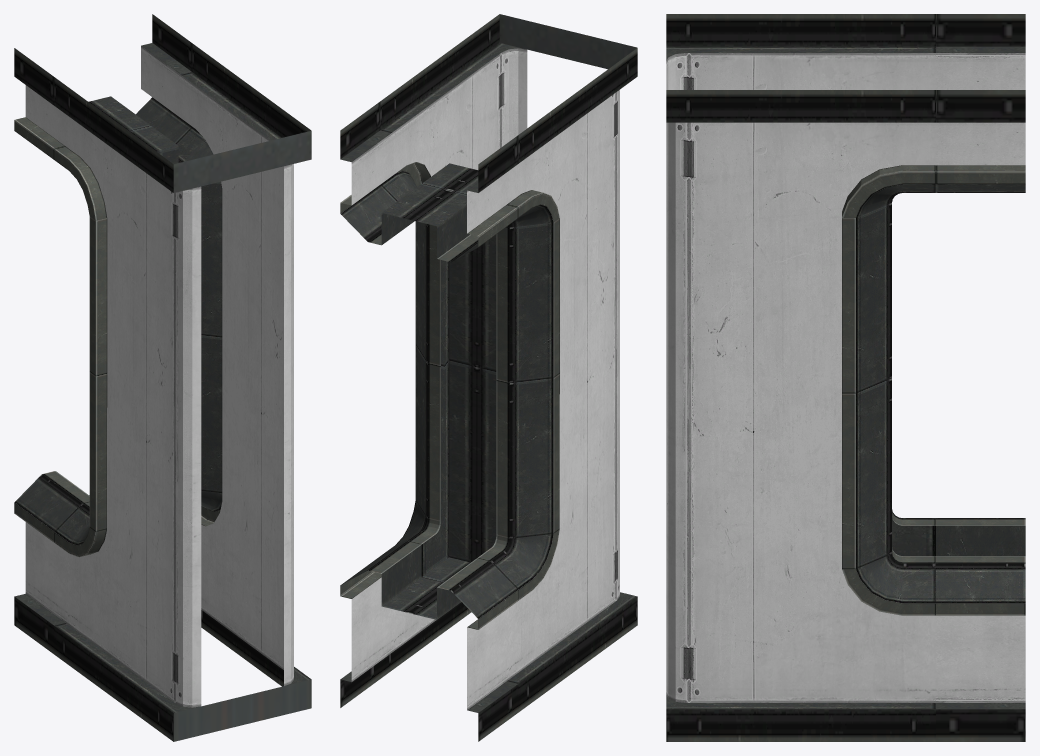
The model's file is Neon_WindowFrameCapB.FBX.
3 renders of one model, left to right at view 1: azimuth 30°, elevation 25°; view 2: azimuth 150°, elevation 25°; view 3: azimuth 270°, elevation 25°, orthographic. The views are drawn at different scales.
Parts seen in each view (by area): view 1: Neon_WindowFrameCapB; view 2: Neon_WindowFrameCapB; view 3: Neon_WindowFrameCapB.
Part boxes in pixels (x1,y1,x2,y2): Neon_WindowFrameCapB: (14,14,311,741); Neon_WindowFrameCapB: (340,14,637,741); Neon_WindowFrameCapB: (666,14,1025,741).
Bounding box in the file's own units: 1 × 4 × 2.
